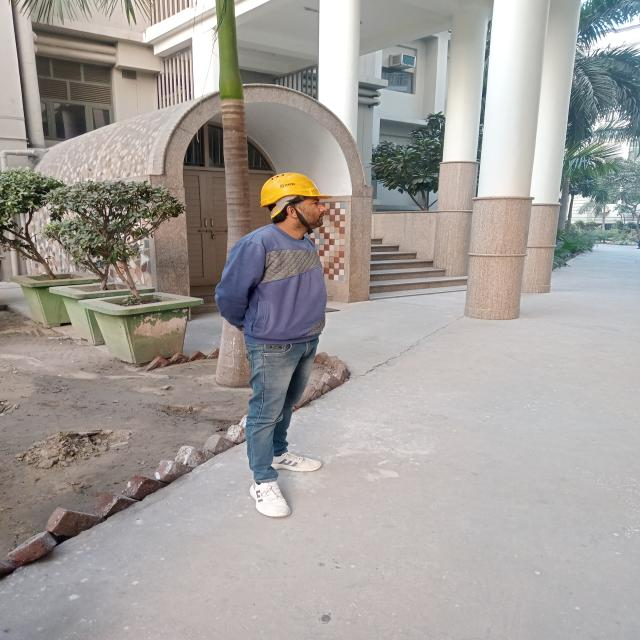no jacket: (216, 172, 339, 518)
